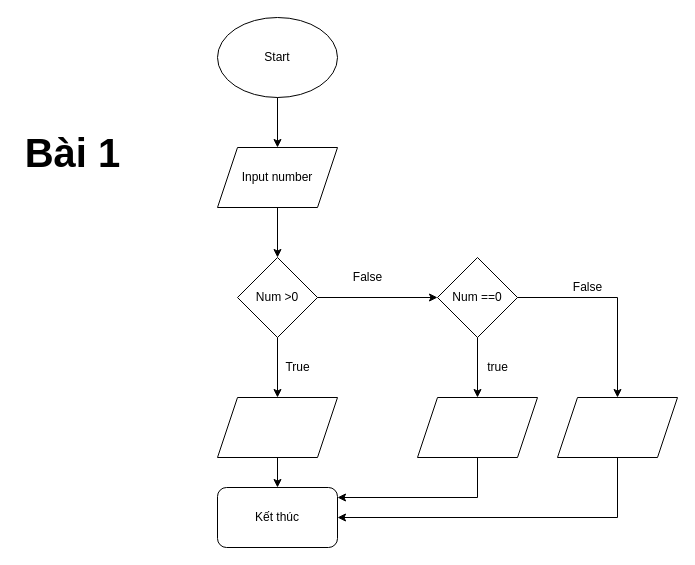
Some shapes in this 695 by 565 pixel diagram are drawn without their labels. The shapes that lost their labels are listed below. From the top down, each one's centre as x and y in pixels, then its label:
At [277,427]: "Num là số dương".
At [477,427]: "Num = 0".
At [617,427]: "Num là số âm".
